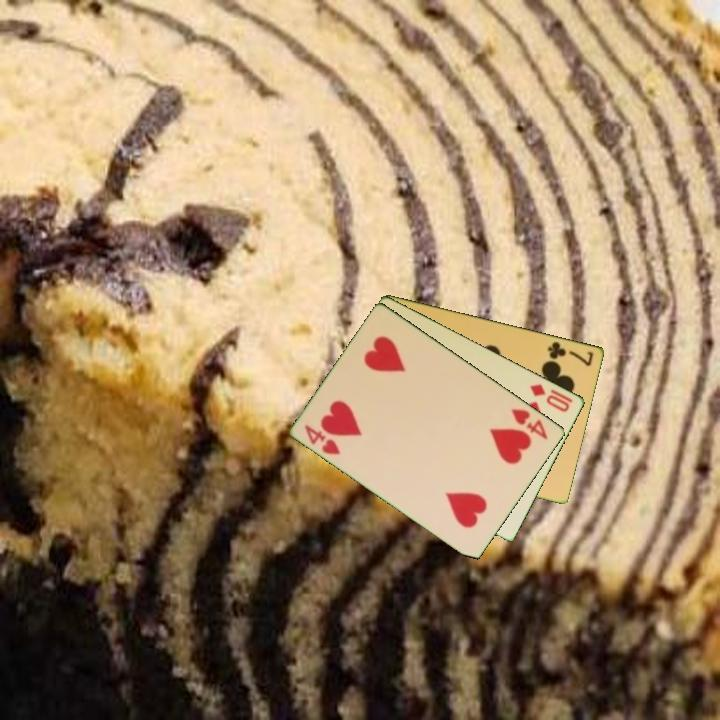10d: (527, 380, 576, 415)
4h: (508, 405, 551, 442), (301, 421, 343, 458)
7c: (544, 338, 596, 369)
